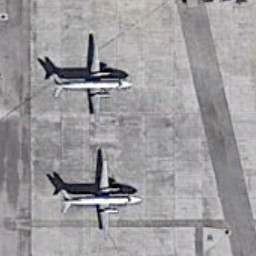Airplane: (33, 23, 140, 140), (43, 147, 150, 246)
